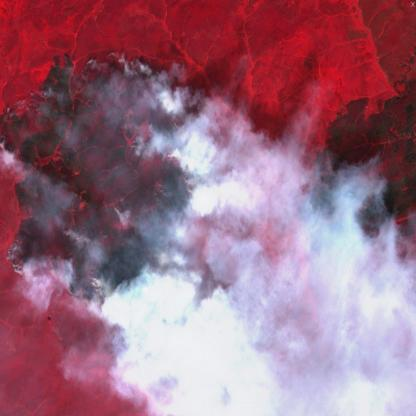fire: (0, 37, 214, 369), (367, 208, 407, 263)
